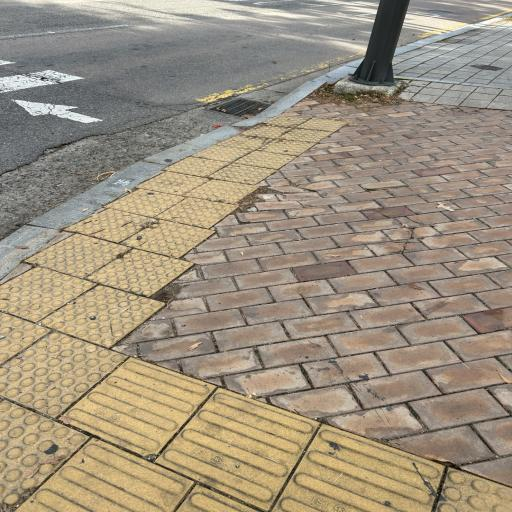debris: (241, 114, 253, 117), (221, 109, 226, 112), (258, 108, 262, 110)
drain: (209, 97, 272, 118)
